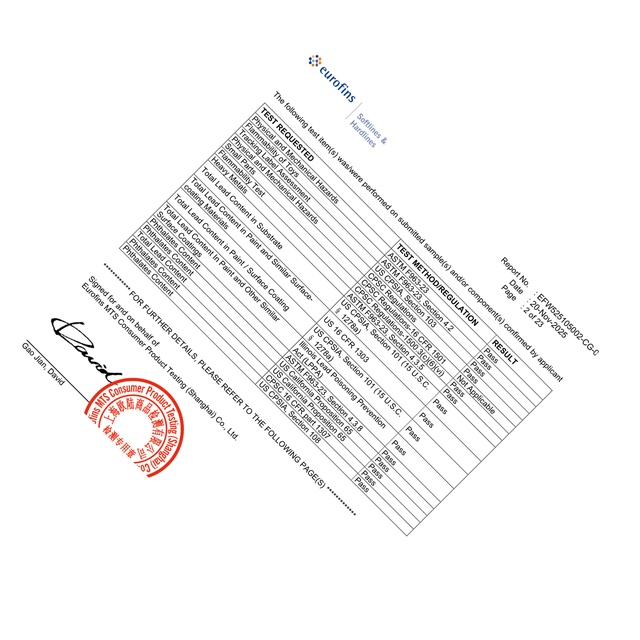eurofins: (305, 51, 358, 107)
